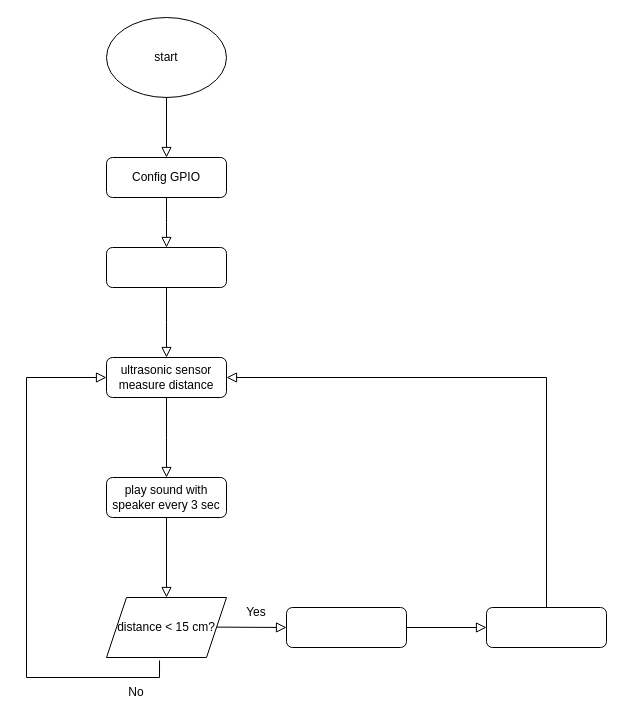
The diagram is 624 pixels wide and 725 high, and some of its shapes have lost their labels. The shapes that lost their labels are listed below. From the top down, each one's box as (x1, y1, x2, y2) in pixels, then its label:
(106, 246, 226, 288): Config timer
(286, 606, 406, 648): hold alarm sound
(486, 606, 606, 648): read color using tcs3200
